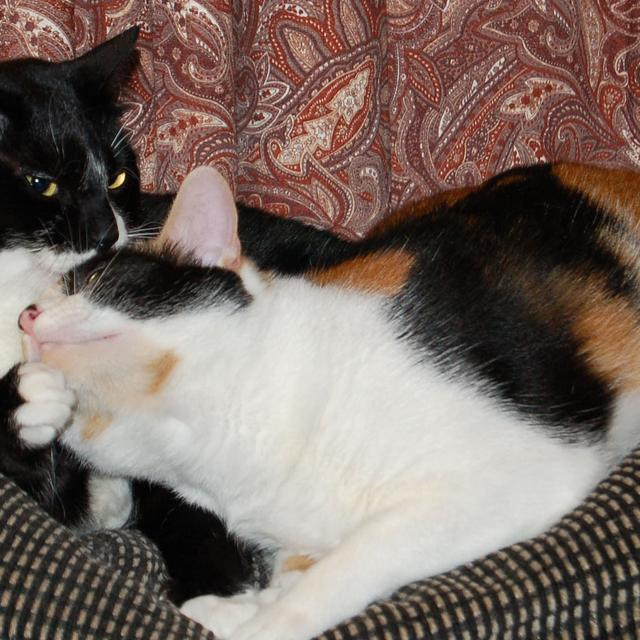animals: (0, 22, 136, 246)
